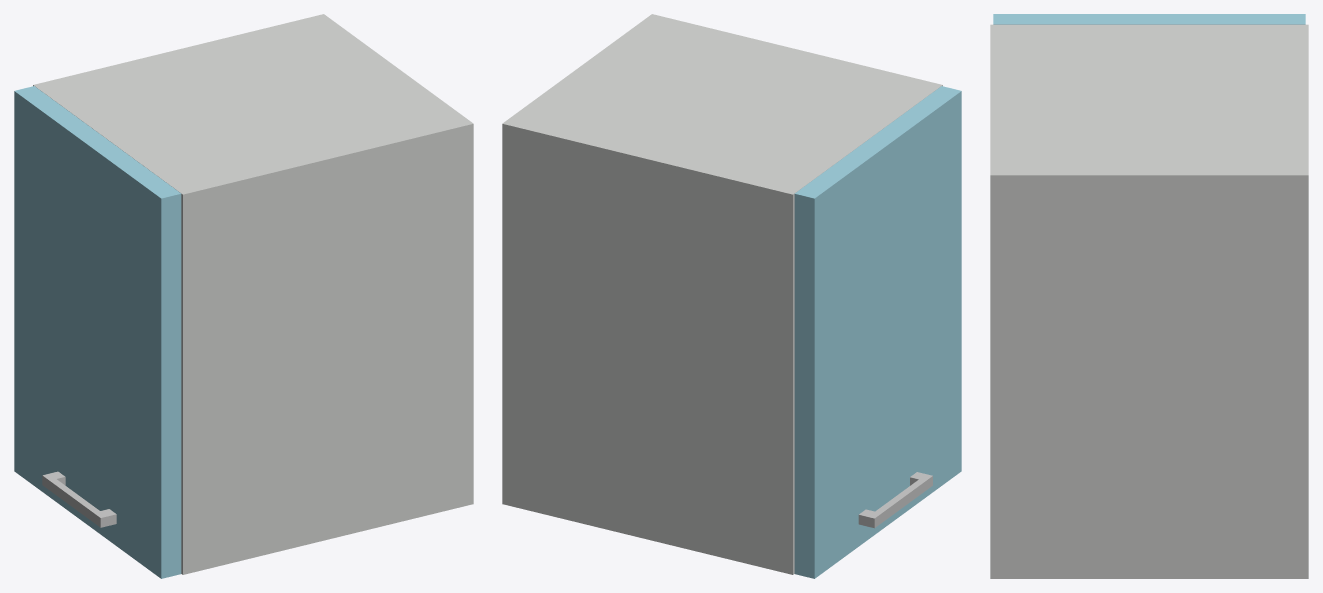
The model's file is Counter_DownHinge.fbx.
3 renders of one model, left to right at view 1: azimuth 30°, elevation 25°; view 2: azimuth 150°, elevation 25°; view 3: azimuth 270°, elevation 25°, orthographic. The views are drawn at different scales.
Parts seen in each view (by area): view 1: CounterType3, CounterType3DOOR, CounterType3Handle; view 2: CounterType3, CounterType3DOOR, CounterType3Handle; view 3: CounterType3, CounterType3DOOR.
Part boxes in pixels (x1,y1,x2,y2): CounterType3: (33, 14, 473, 574); CounterType3DOOR: (14, 86, 181, 578); CounterType3Handle: (42, 471, 116, 527); CounterType3: (502, 14, 942, 574); CounterType3DOOR: (794, 86, 961, 578); CounterType3Handle: (858, 472, 932, 528); CounterType3: (990, 24, 1308, 578); CounterType3DOOR: (993, 14, 1305, 24).
Bounding box in the file's own units: 62.97 × 70 × 50.
